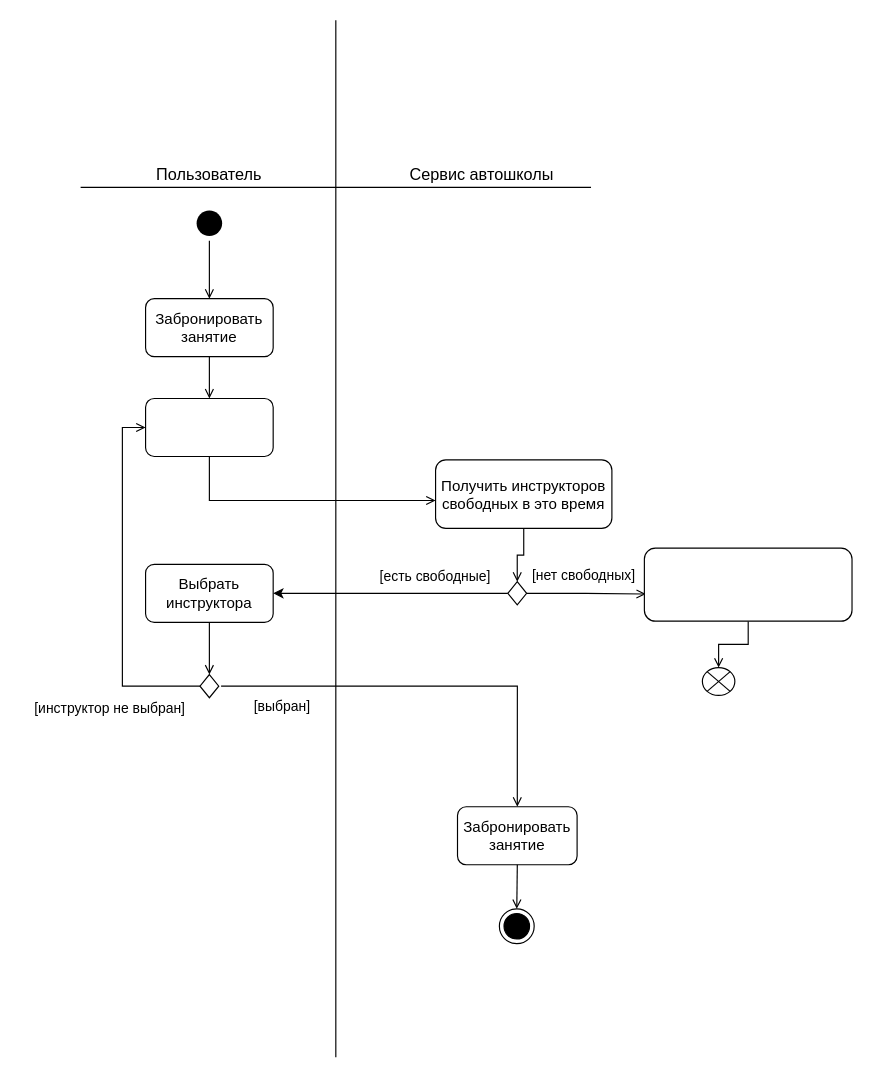
Image size: 872x1078. Some labels were removed from this diagram. Each missing label, with the box of its shape:
Выбрать время: (144, 397, 273, 456)
Сообщить об отсутствии свободных инструкторов: (643, 547, 852, 621)
